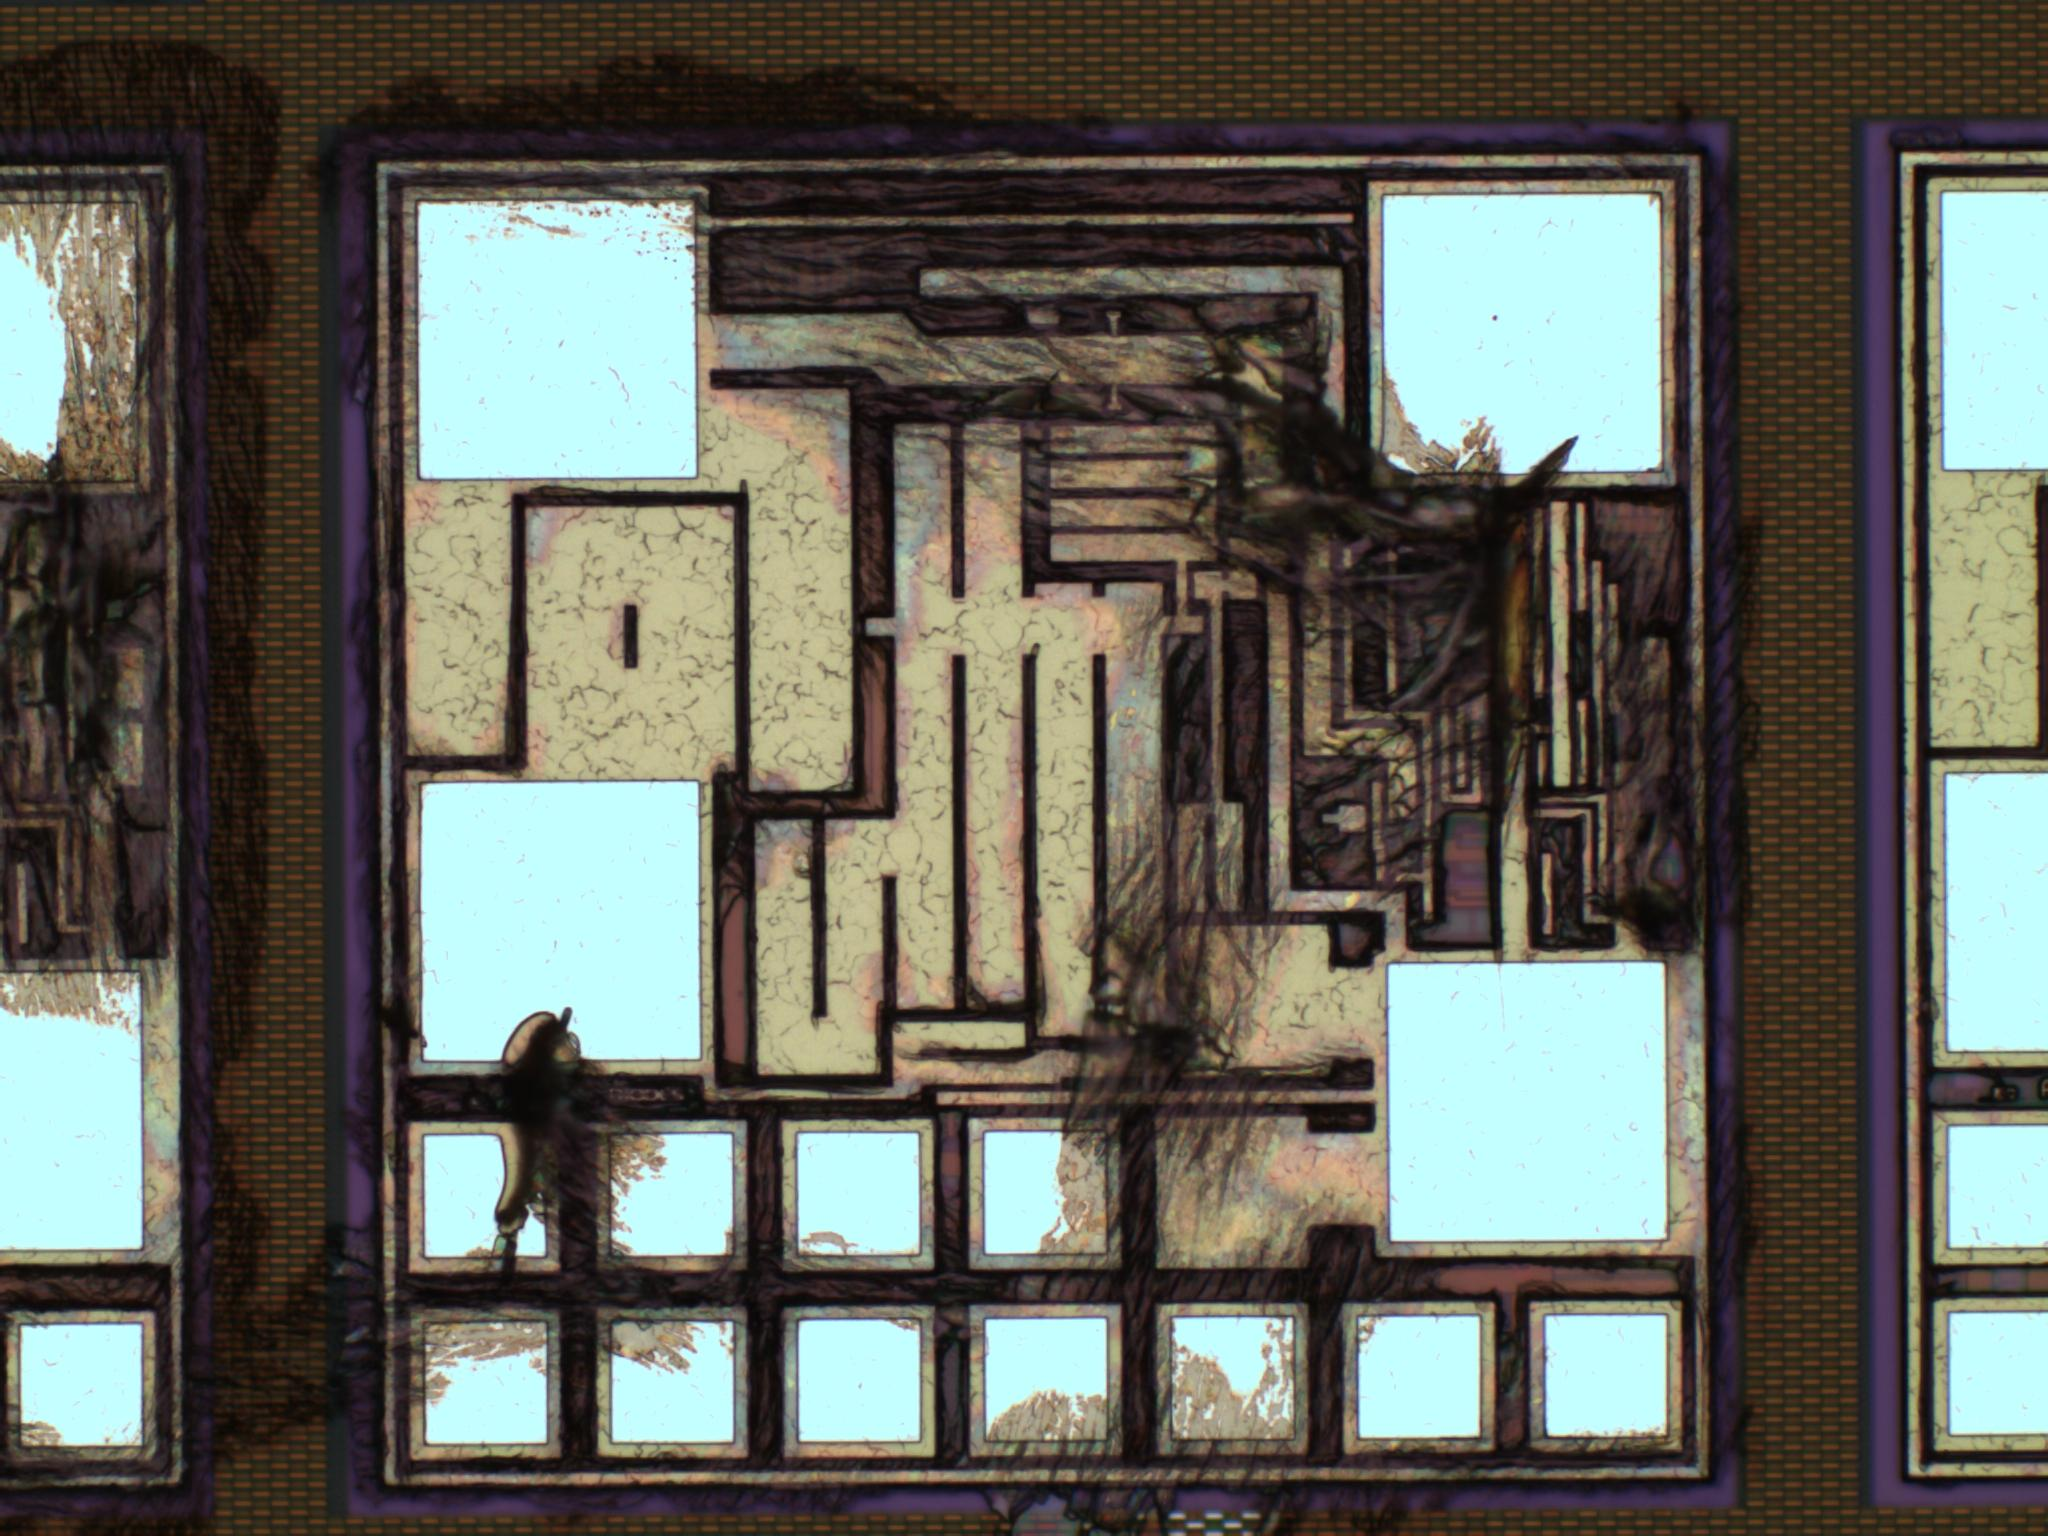COATING BAD: (2, 40, 1763, 1536)
